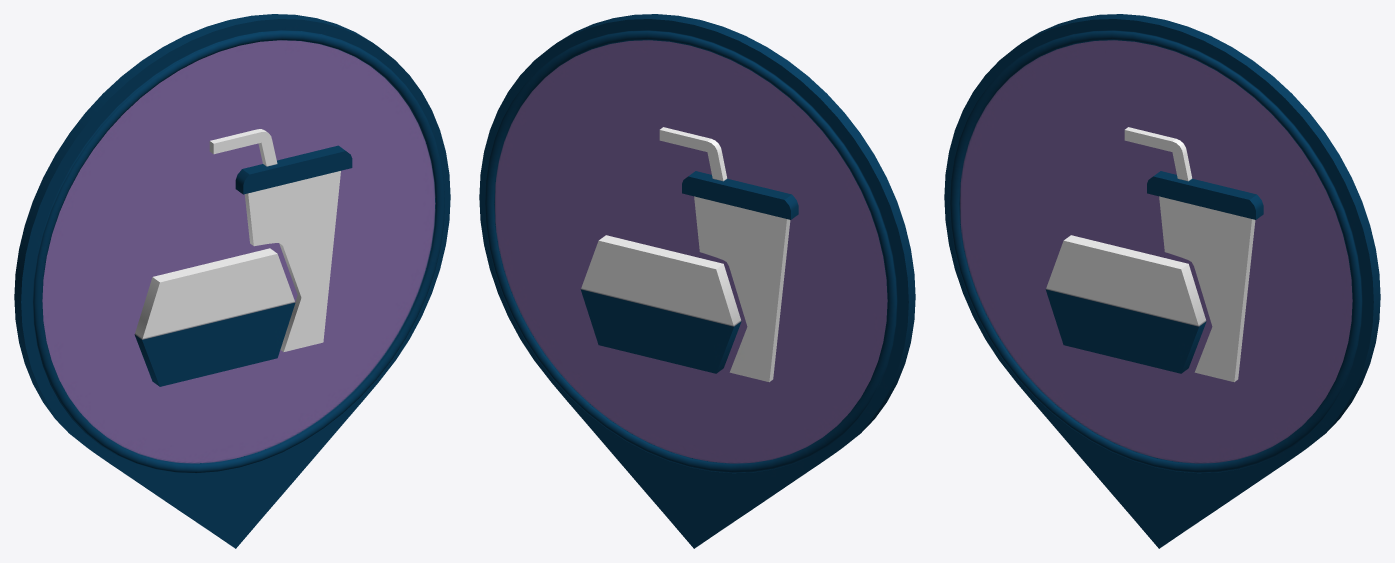
The model's file is Icon_18.obj.
3 renders of one model, left to right at view 1: azimuth 30°, elevation 25°; view 2: azimuth 150°, elevation 25°; view 3: azimuth 330°, elevation 25°, orthographic.
Parts seen in each view (by area): view 1: Icon__18; view 2: Icon__18; view 3: Icon__18.
Boxes of the visible parts, x1=… form: Icon__18: x1=14, y1=14, x2=450, y2=548; Icon__18: x1=479, y1=14, x2=915, y2=548; Icon__18: x1=944, y1=14, x2=1380, y2=548.
Size of the model in its own units: 20.03 by 23.35 by 2.13.
Materials: 1 (1 with a texture image).
